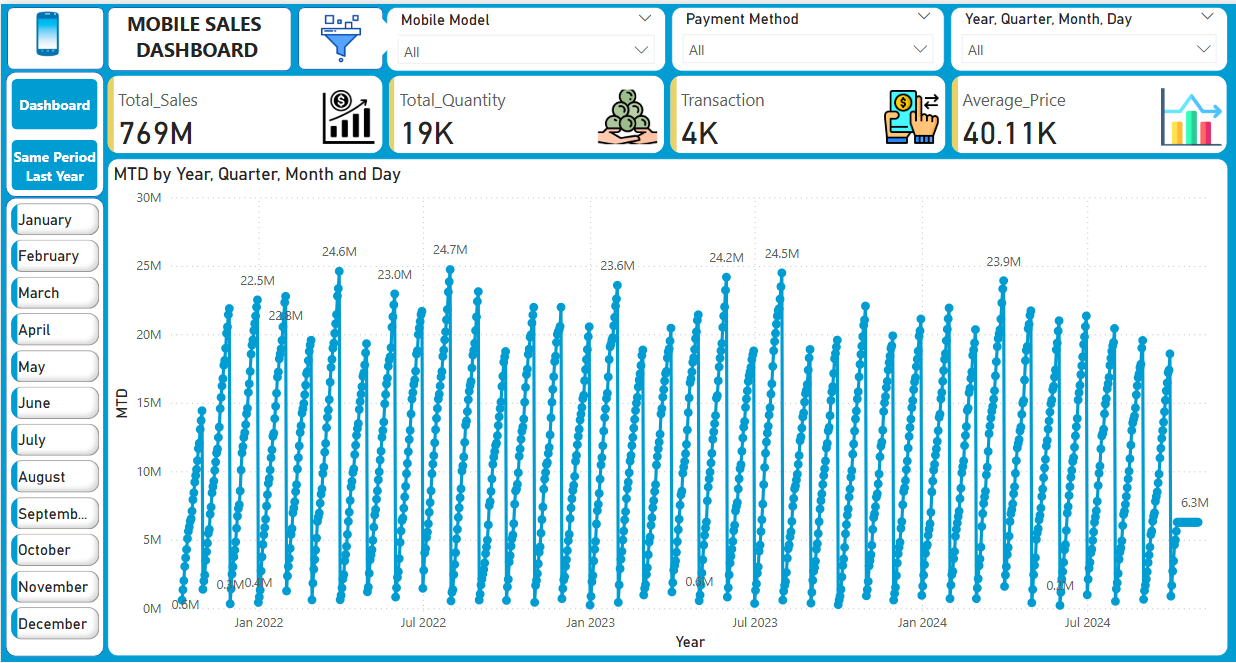

The page's visual inventory and layout, read from the dashboard file:
{"tool":"powerbi","page":{"name":"MTD Report","canvas":[1280,720],"ordinal":1},"visuals":[{"type":"shape","box":[5.7,2.9,92.9,60],"z":0},{"type":"image","box":[12,0,66,56],"z":1000},{"type":"shape","box":[4.3,64.3,94.3,120],"z":2000},{"type":"cardVisual","fields":{"Data":["Sales_Data.Total_Sales","Sales_Data.Total_Quantity","Sales_Data.Transaction","Sales_Data.Average_Price"]},"box":[101.4,62.9,1067.1,84.3],"z":3000},{"type":"slicer","fields":{"Values":["Sales_Data.Mobile Model"]},"box":[367.1,2.9,265.7,61.4],"z":4000},{"type":"slicer","fields":{"Values":["Sales_Data.Payment Method"]},"box":[638.6,2.9,260,61.4],"z":5000},{"type":"slicer","fields":{"Values":["Custom_Calendar.Date.Variation.Date Hierarchy.Year","Custom_Calendar.Date.Variation.Date Hierarchy.Quarter","Custom_Calendar.Date.Variation.Date Hierarchy.Month","Custom_Calendar.Date.Variation.Date Hierarchy.Day"]},"box":[904.3,2.9,264.3,61.4],"z":6000},{"type":"shape","box":[282.9,2.9,81.4,60],"z":7000},{"type":"image","box":[257.1,4.3,132.9,57.1],"z":8000},{"type":"shape","box":[344.3,12.9,35.7,37.1],"z":9000},{"type":"shape","box":[101.4,2.9,175.7,61.4],"z":10000},{"type":"textbox","box":[90,0,192.9,81.4],"z":11000},{"type":"lineChart","fields":{"Y":["Sales_Data.MTD"],"Category":["Custom_Calendar.Date.Variation.Date Hierarchy.Year","Custom_Calendar.Date.Variation.Date Hierarchy.Quarter","Custom_Calendar.Date.Variation.Date Hierarchy.Month","Custom_Calendar.Date.Variation.Date Hierarchy.Day"]},"box":[101.4,147.1,1067.1,474.3],"z":12000},{"type":"shape","box":[4.3,184.3,94.3,437.1],"z":13000},{"type":"advancedSlicerVisual","fields":{"Values":["Custom_Calendar.Date.Variation.Date Hierarchy.Month"]},"box":[4.3,184.3,94.3,437.1],"z":14000},{"type":"pageNavigator","box":[10,71.4,82.9,107.1],"z":15000}]}

Visuals, with their boxes on the page's 1280x720 design canvas (x1, y1, x2, y2). These are canvas units, not pixel positions in the 1236x663 screenshot, which may show the page scaled, cropped or inside an application window:
shape: x1=6, y1=3, x2=99, y2=63
image: x1=12, y1=0, x2=78, y2=56
shape: x1=4, y1=64, x2=99, y2=184
cardVisual - Sales_Data.Total_Sales x Sales_Data.Total_Quantity: x1=101, y1=63, x2=1168, y2=147
slicer - Sales_Data.Mobile Model: x1=367, y1=3, x2=633, y2=64
slicer - Sales_Data.Payment Method: x1=639, y1=3, x2=899, y2=64
slicer - Custom_Calendar.Date.Variation.Date Hierarchy.Year x Custom_Calendar.Date.Variation.Date Hierarchy.Quarter: x1=904, y1=3, x2=1169, y2=64
shape: x1=283, y1=3, x2=364, y2=63
image: x1=257, y1=4, x2=390, y2=61
shape: x1=344, y1=13, x2=380, y2=50
shape: x1=101, y1=3, x2=277, y2=64
textbox: x1=90, y1=0, x2=283, y2=81
lineChart - Sales_Data.MTD x Custom_Calendar.Date.Variation.Date Hierarchy.Year: x1=101, y1=147, x2=1168, y2=621
shape: x1=4, y1=184, x2=99, y2=621
advancedSlicerVisual - Custom_Calendar.Date.Variation.Date Hierarchy.Month: x1=4, y1=184, x2=99, y2=621
pageNavigator: x1=10, y1=71, x2=93, y2=178
